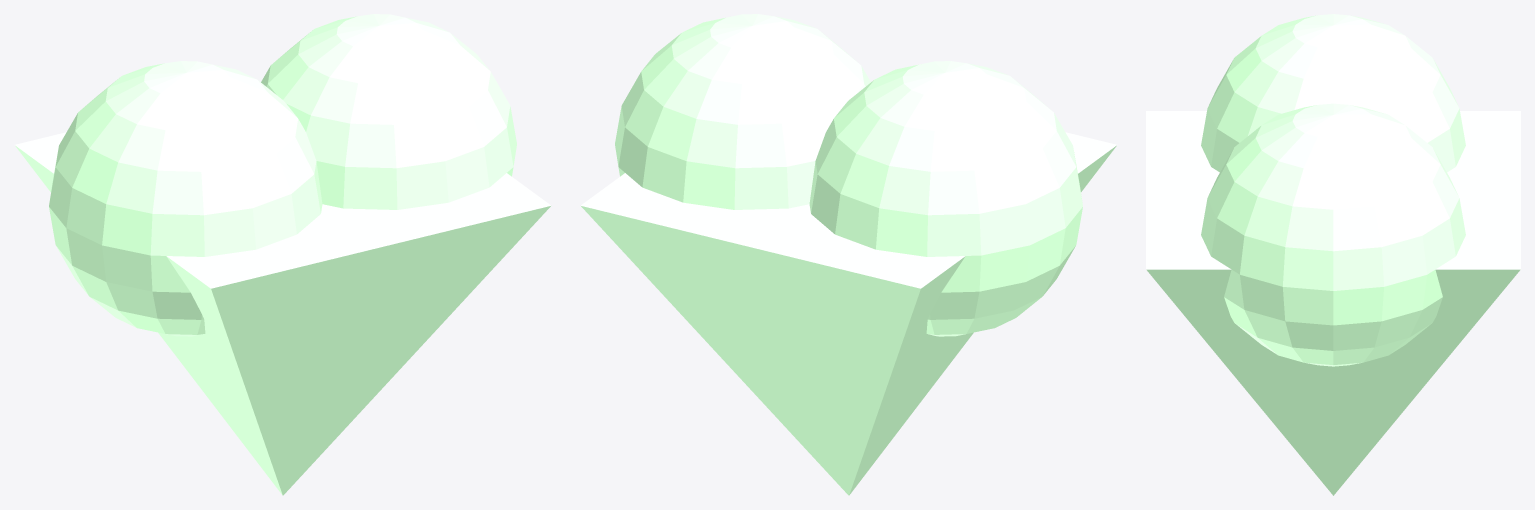
File: oneup_heart.glb
3 views of the same model, side by side, from view 1: azimuth 30°, elevation 25°; view 2: azimuth 150°, elevation 25°; view 3: azimuth 270°, elevation 25° (orthographic). The views are drawn at different scales.
Visible parts, largest first — view 1: SB_HTip, SB_H1, SB_H2; view 2: SB_HTip, SB_H1, SB_H2; view 3: SB_H2, SB_HTip, SB_H1.
Part boxes in pixels (x1=…): SB_HTip: x1=15, y1=132, x2=551, y2=495; SB_H1: x1=49, y1=61, x2=322, y2=336; SB_H2: x1=261, y1=14, x2=516, y2=209; SB_HTip: x1=580, y1=132, x2=1116, y2=495; SB_H1: x1=809, y1=61, x2=1082, y2=336; SB_H2: x1=615, y1=14, x2=870, y2=209; SB_H2: x1=1201, y1=103, x2=1465, y2=366; SB_HTip: x1=1146, y1=111, x2=1520, y2=495; SB_H1: x1=1201, y1=14, x2=1465, y2=172.
Size of the model in its own units: 0.99 by 0.975 by 0.7778.
